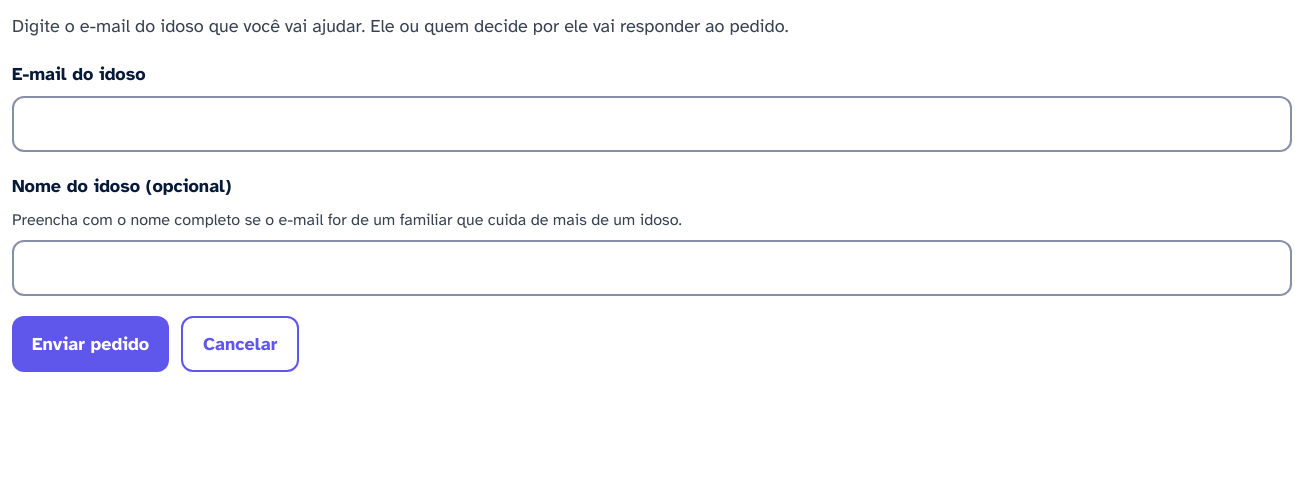
Test case: SolicitarVinculo › 404 do cuidador mostra a mensagem genérica do backend
The image size is (1304, 501).
Type "idoso.teste@exemplo.test" into the field labelled "E-mail do idoso" at (652, 124), box [12,96,1292,152]
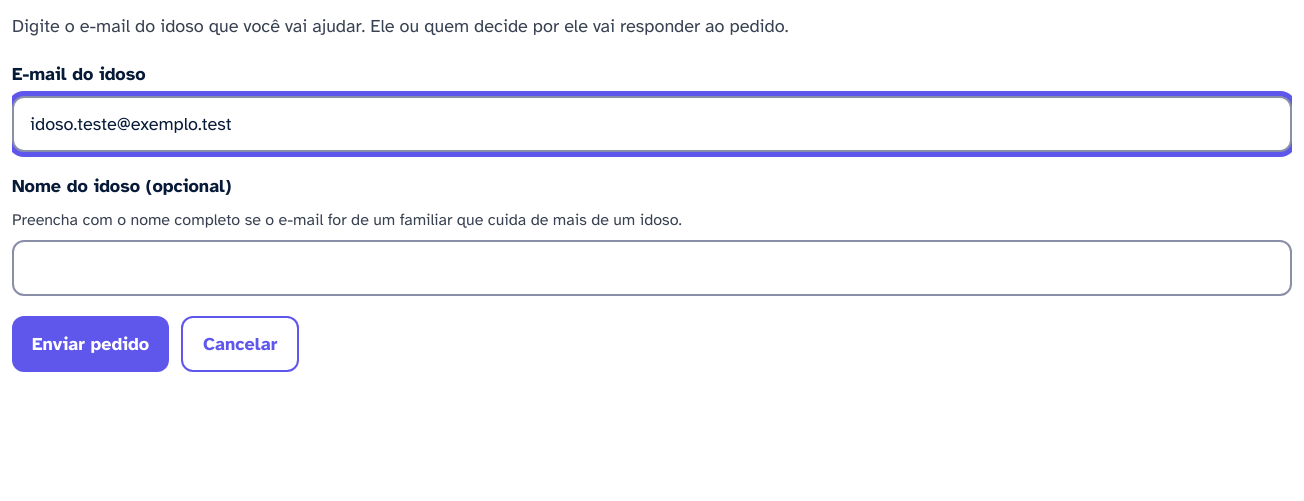
Click the button "Enviar pedido" at (90, 344), box [12,316,169,372]
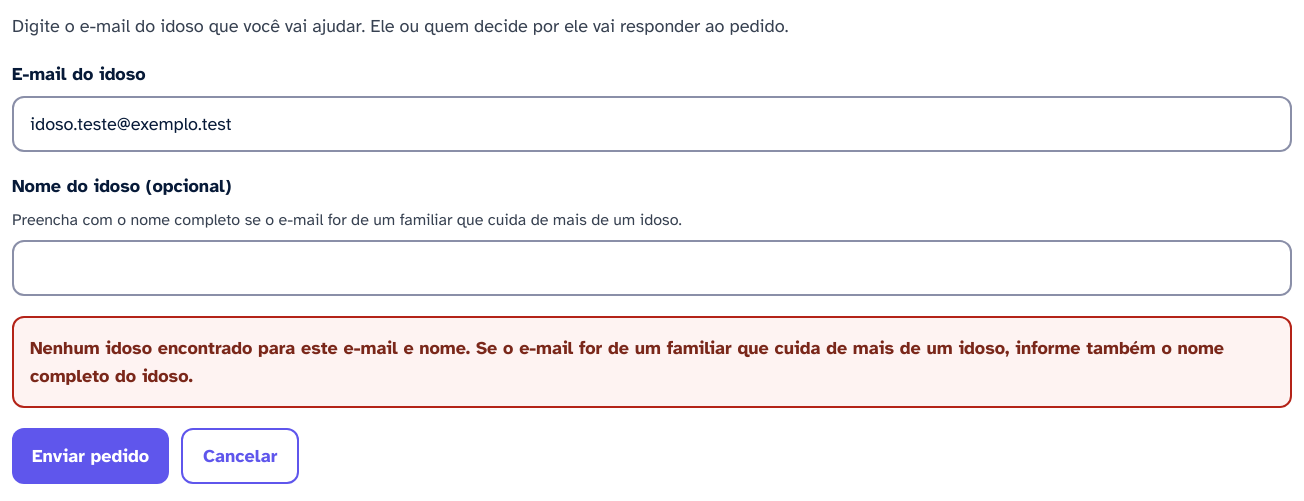
Expected: the message shows "Nenhum idoso encontrado para este e-mail e nome. Se o e-mail for de um familiar que cuida de mais de um idoso, informe também o nome completo do idoso.", [30,337,1224,387]
